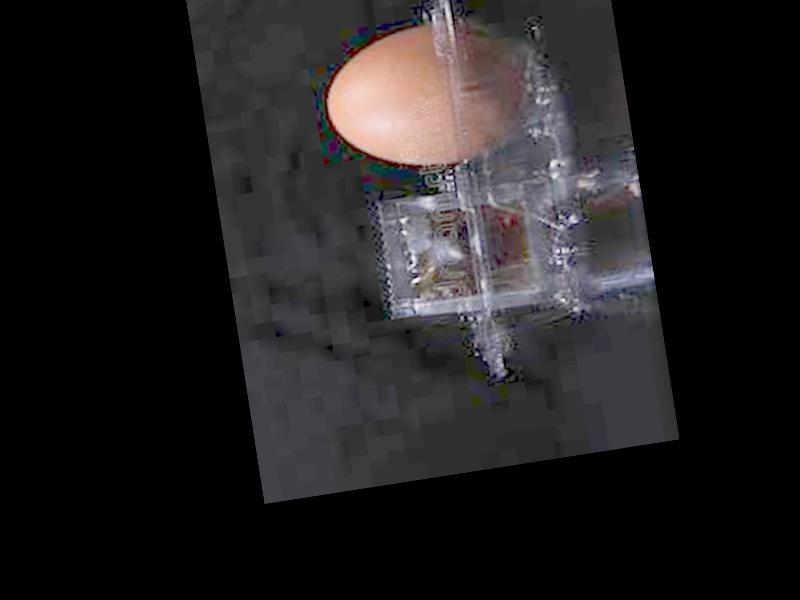Eggs: (318, 8, 543, 178)
